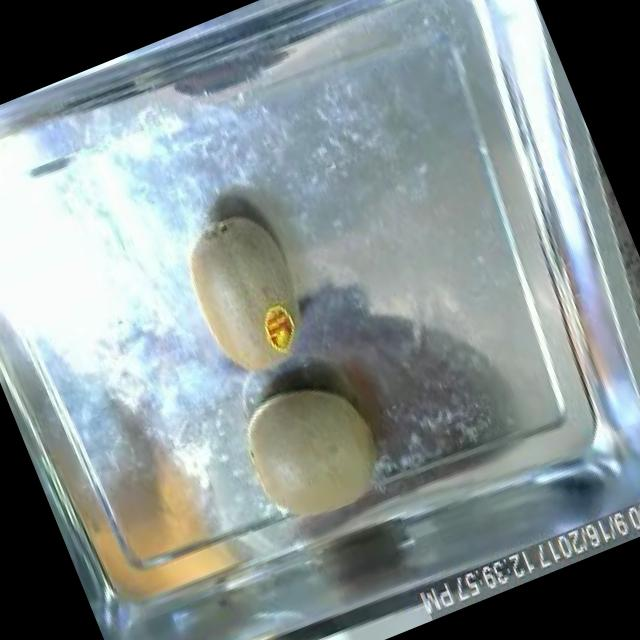Fruit: (218, 355, 408, 550), (158, 189, 333, 396)
